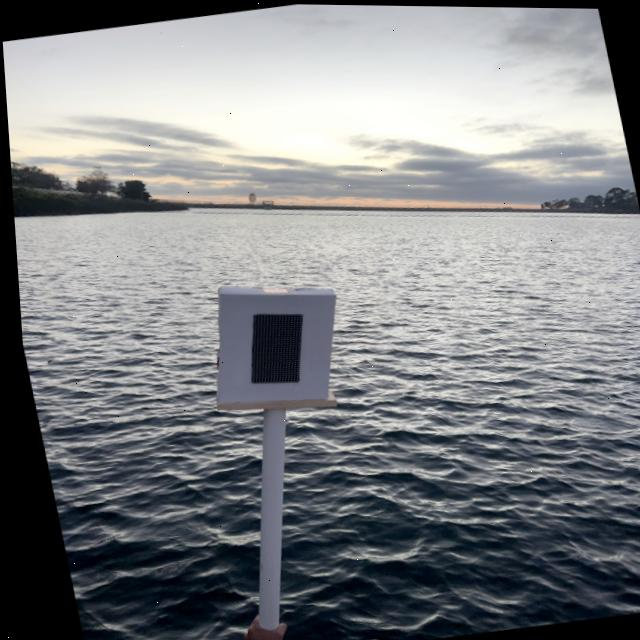led: (224, 293, 322, 400)
